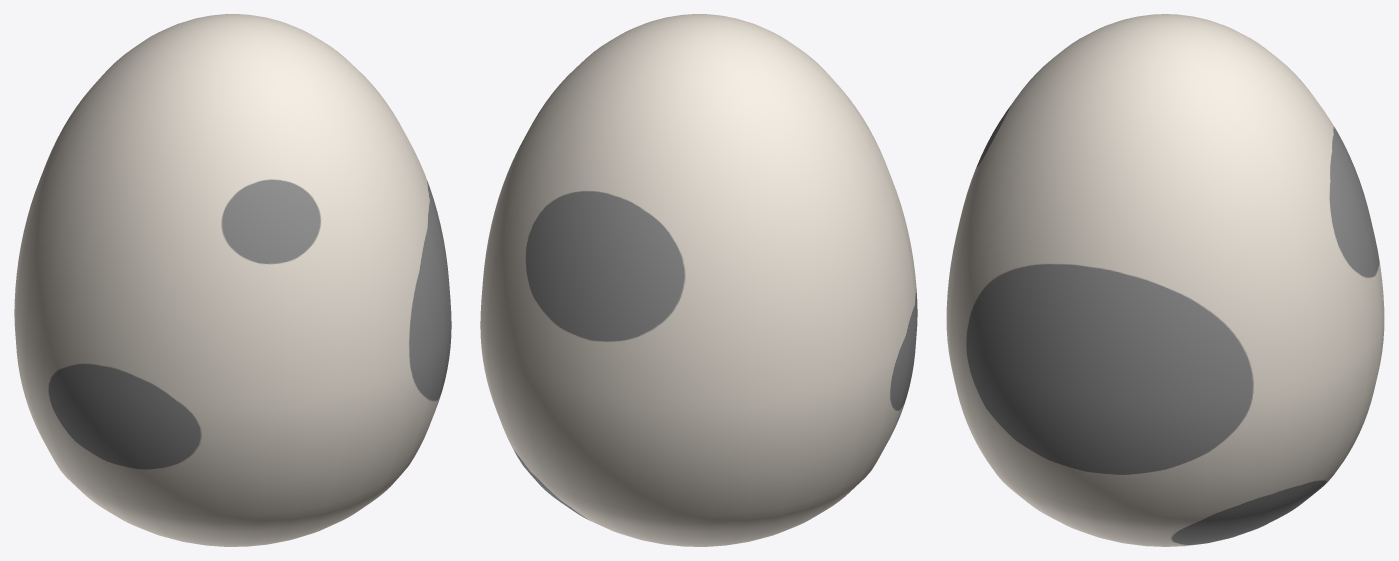
Rendered from egg.obj.
3 views of the same model, side by side, from view 1: azimuth 30°, elevation 25°; view 2: azimuth 150°, elevation 25°; view 3: azimuth 270°, elevation 25° (orthographic).
Visible parts, largest first — view 1: Egg; view 2: Egg; view 3: Egg.
Boxes of the visible parts, <box> form: Egg: <box>14,14,451,546</box>; Egg: <box>480,14,917,546</box>; Egg: <box>946,14,1384,546</box>.
Bounding box in the file's own units: 2 × 2.5 × 2.
1 material, 1 textured.
